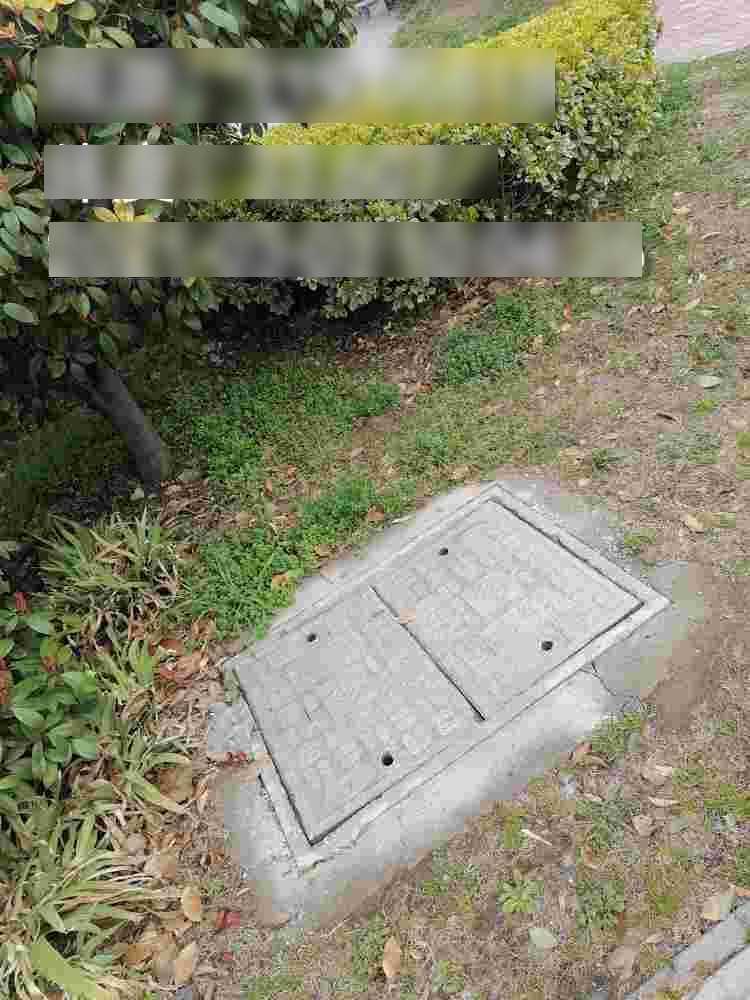well: (225, 478, 678, 865)
